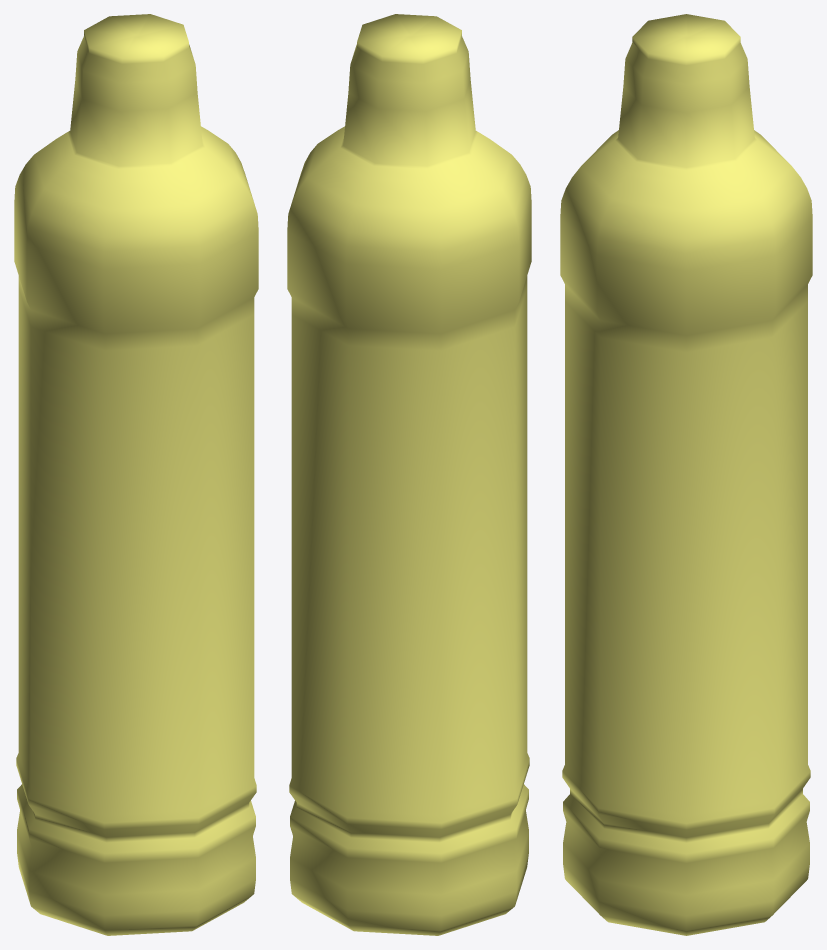
Rendered from oil_bottle.fbx.
The picture shows the model from 3 angles, left to right: view 1: azimuth 30°, elevation 25°; view 2: azimuth 150°, elevation 25°; view 3: azimuth 270°, elevation 25°; orthographic projection.
Parts seen in each view (by area): view 1: oil bottle; view 2: oil bottle; view 3: oil bottle.
Part boxes in pixels (x1,y1,x2,y2): oil bottle: (14,14,258,935); oil bottle: (287,14,531,935); oil bottle: (560,14,812,935).
Bounding box in the file's own units: 87.74 × 329 × 87.74.
1 material, 1 textured.
